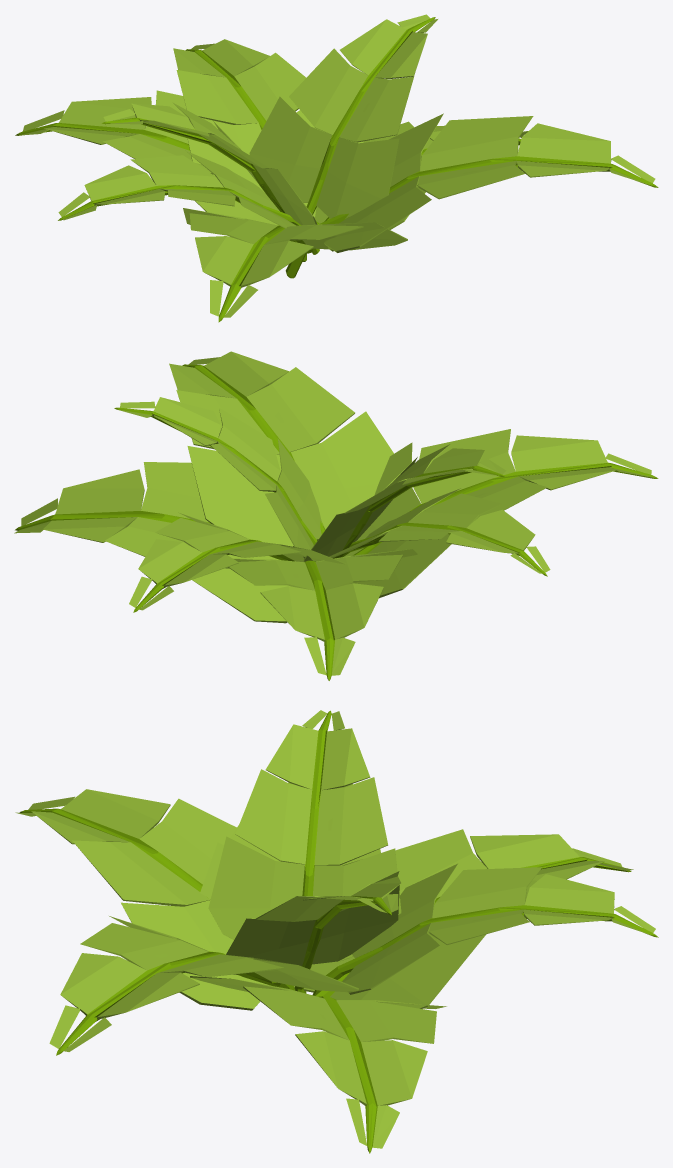
Rendered from jungleGrass3.fbx.
3 renders of one model, top to bottom at view 1: azimuth 30°, elevation 25°; view 2: azimuth 150°, elevation 25°; view 3: azimuth 270°, elevation 25°, orthographic. The views are drawn at different scales.
Parts seen in each view (by area): view 1: Plane.008; view 2: Plane.008; view 3: Plane.008.
Part boxes in pixels (x1,y1,x2,y2): Plane.008: [15, 14, 658, 322]; Plane.008: [14, 351, 658, 680]; Plane.008: [15, 710, 658, 1153].
Bounding box in the file's own units: 418 × 150 × 395.
